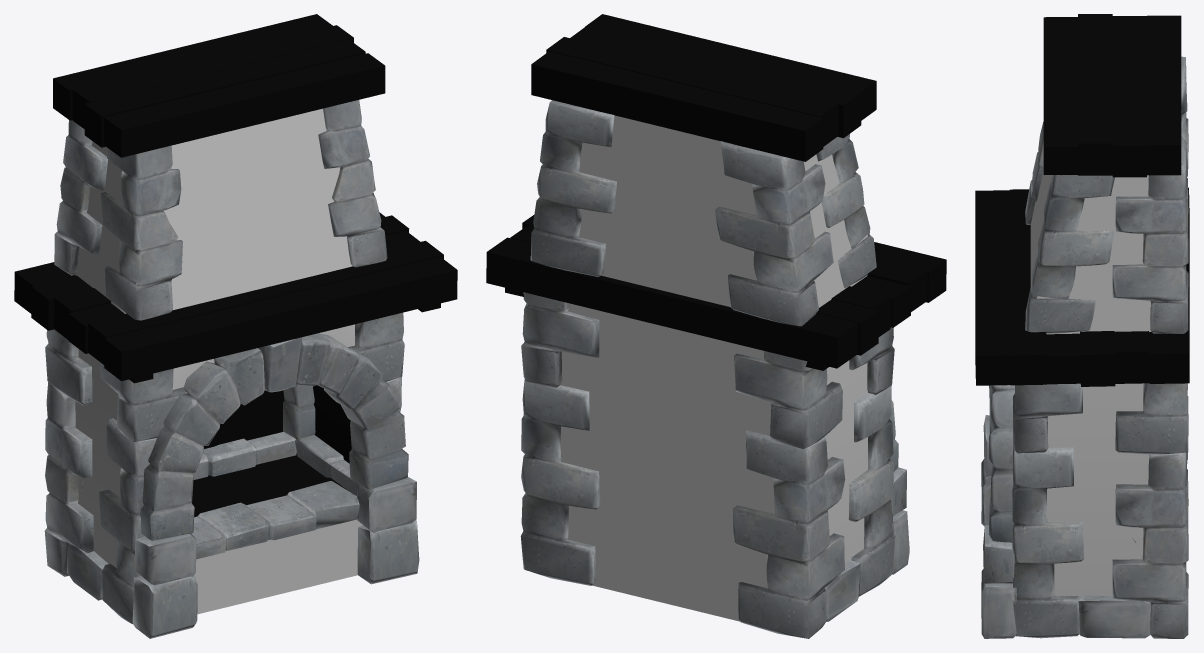
File: SM_Farm_KitchenStove_01.fbx
3 views of the same model, side by side, from view 1: azimuth 30°, elevation 25°; view 2: azimuth 150°, elevation 25°; view 3: azimuth 270°, elevation 25° (orthographic). The views are drawn at different scales.
Parts seen in each view (by area): view 1: SM_Farm_KitchenStove_01_LOD0; view 2: SM_Farm_KitchenStove_01_LOD0; view 3: SM_Farm_KitchenStove_01_LOD0.
Boxes of the visible parts, x1,y1,x2,y2 form: SM_Farm_KitchenStove_01_LOD0: (14,14,457,638); SM_Farm_KitchenStove_01_LOD0: (486,14,946,638); SM_Farm_KitchenStove_01_LOD0: (975,14,1189,638).
Size of the model in its own units: 272 by 371 by 146.
